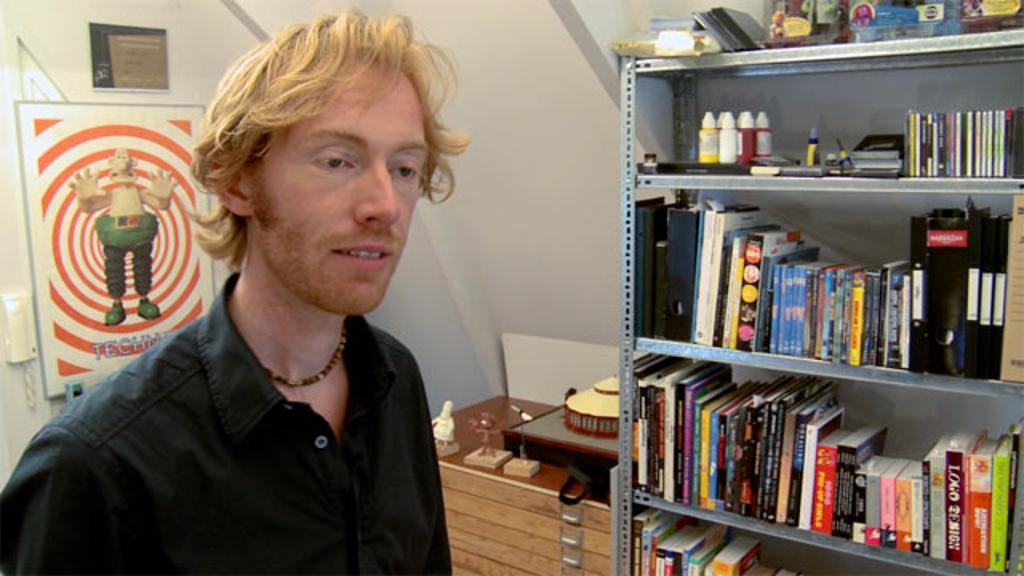face: (256, 60, 428, 316)
